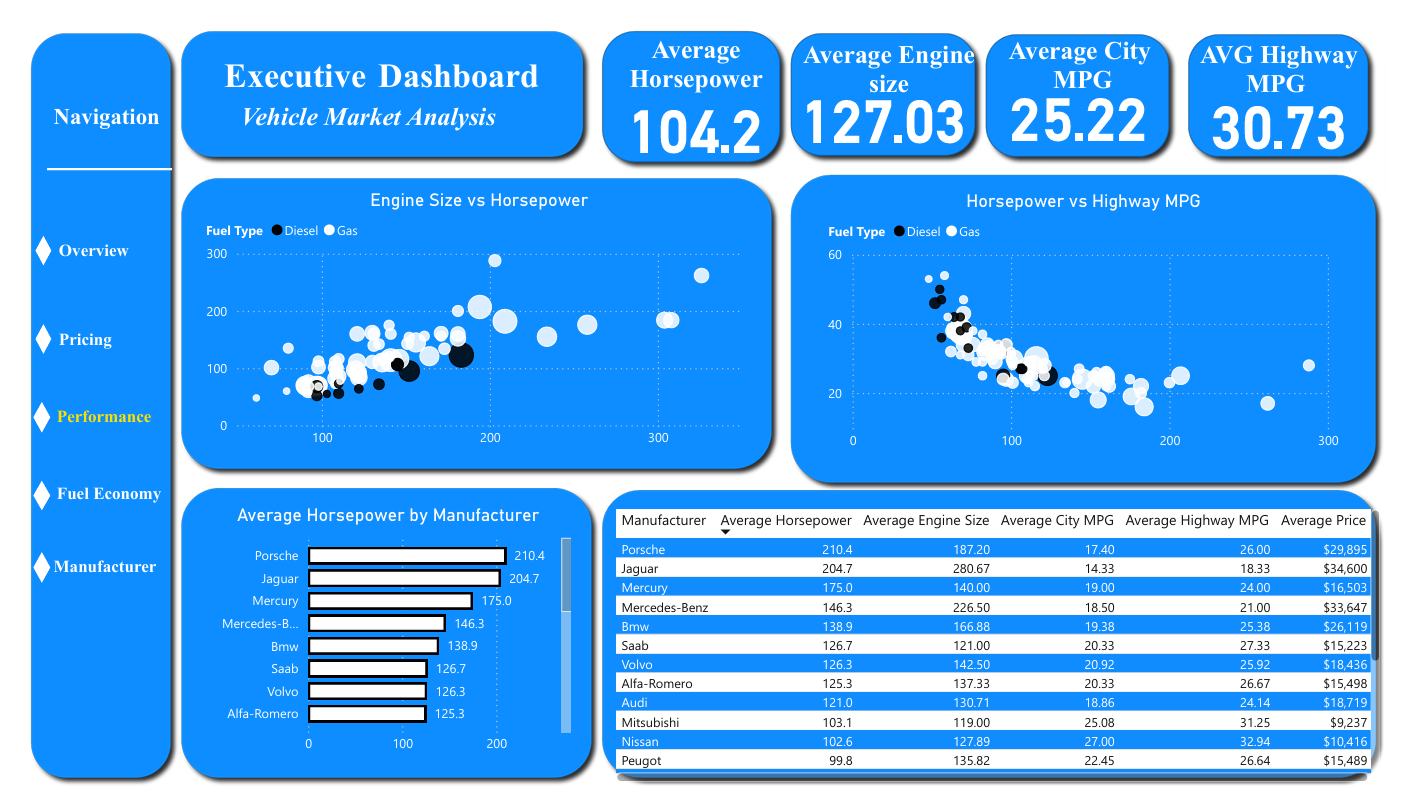

The page's visual inventory and layout, read from the dashboard file:
{"tool":"powerbi","page":{"name":"Performance Analysis","canvas":[1280,720],"ordinal":2},"visuals":[{"type":"shape","box":[543.4,443.5,736.6,275.8],"z":0},{"type":"shape","box":[141.1,429.4,402.8,289.9],"z":1000},{"type":"shape","box":[713.1,134.8,567.3,307.2],"z":2000},{"type":"shape","box":[141.1,0,394.9,136.3],"z":3000},{"type":"shape","box":[1086.1,3.1,186.5,133.2],"z":4000},{"type":"shape","box":[896.5,3.1,189.6,133.2],"z":5000},{"type":"shape","box":[713.1,1.6,191.2,133.2],"z":6000},{"type":"shape","box":[536,0,184.9,141.1],"z":7000},{"type":"card","fields":{"Values":["Measures (2).Average Horsepower"]},"box":[545.4,48.6,172.4,95.6],"z":8000},{"type":"shape","box":[0,1.6,148.9,717.8],"z":9000},{"type":"textbox","box":[545.4,7.8,175.5,69],"z":10000},{"type":"card","fields":{"Values":["Measures (2).Average Engine Size"]},"box":[719.4,42.3,178.7,90.9],"z":11000},{"type":"textbox","box":[724.1,12.5,180.2,67.4],"z":12000},{"type":"textbox","box":[904.3,9.4,183.4,67.4],"z":13000},{"type":"card","fields":{"Values":["Measures (2).Average City MPG"]},"box":[895.8,33.5,191.4,104.1],"z":14000},{"type":"card","fields":{"Values":["Measures (2).Average Highway MPG"]},"box":[1106.5,40.7,147.3,103.4],"z":15000},{"type":"textbox","box":[1083,12.5,194.3,67.4],"z":16000},{"type":"shape","box":[536,431,744.4,288.4],"z":17000},{"type":"textbox","box":[126.9,26.6,421.6,84.6],"z":18000},{"type":"textbox","box":[200.6,70.5,299.3,45.4],"z":19000},{"type":"shape","box":[24.2,76.2,117.1,124.5],"z":20000},{"type":"textbox","box":[24.2,72.5,117.1,48.3],"z":21000},{"type":"shape","box":[12.5,200.6,15.7,28.2],"z":22000},{"type":"shape","box":[12.5,283.7,15.7,28.2],"z":23000},{"type":"textbox","box":[29.8,200.6,108.1,42.3],"z":24000},{"type":"textbox","box":[29.8,285.2,97.2,51.7],"z":25000},{"type":"shape","box":[11,357.3,15.7,28.2],"z":26000},{"type":"textbox","box":[28.2,357.3,133.2,34.5],"z":27000},{"type":"shape","box":[11,431,15.7,28.2],"z":28000},{"type":"textbox","box":[28.2,429.4,148.9,37.6],"z":29000},{"type":"textbox","box":[25,498.3,116.7,28.3],"z":30000},{"type":"shape","box":[11,498.4,15.7,28.2],"z":31000},{"type":"shape","box":[141.1,137.9,572,291.5],"z":32000},{"type":"clusteredBarChart","fields":{"Category":["Cars.Manufacturer"],"Y":["Measures (2).Average Horsepower"]},"box":[167.7,452.9,352.6,242.9],"z":33000},{"type":"scatterChart","title":"Engine Size vs Horsepower","fields":{"X":["Cars.Engine Size"],"Y":["Cars.Horsepower"],"Series":["Cars.Fuel Type"],"Size":["Sum(Cars.Price)"]},"box":[167.7,156.7,523.5,252.3],"z":34000},{"type":"scatterChart","title":"Horsepower vs Highway MPG","fields":{"X":["Cars.Horsepower"],"Series":["Cars.Fuel Type"],"Y":["Cars.Highway MPG"],"Size":["Sum(Cars.Engine Size)"]},"box":[752.3,158.3,489,252.3],"z":35000},{"type":"tableEx","fields":{"Values":["Cars.Manufacturer","Measures (2).Average Horsepower","Measures (2).Average Engine Size","Measures (2).Average City MPG","Measures (2).Average Highway MPG","Measures (2).Average Price"]},"box":[551.7,452.9,728.8,266.4],"z":36000}]}

Visuals, with their boxes in screenshot pixels (x1, y1, x2, y2), scaled from the page's 1280x720 canvas onto the 1402x806 screenshot:
shape: bbox=[595, 496, 1401, 805]
shape: bbox=[155, 481, 596, 805]
shape: bbox=[781, 151, 1401, 495]
shape: bbox=[155, 0, 587, 153]
shape: bbox=[1190, 3, 1394, 153]
shape: bbox=[982, 3, 1190, 153]
shape: bbox=[781, 2, 990, 151]
shape: bbox=[587, 0, 790, 158]
card - Measures (2).Average Horsepower: bbox=[597, 54, 786, 161]
shape: bbox=[0, 2, 163, 805]
textbox: bbox=[597, 9, 790, 86]
card - Measures (2).Average Engine Size: bbox=[788, 47, 984, 149]
textbox: bbox=[793, 14, 990, 89]
textbox: bbox=[990, 11, 1191, 86]
card - Measures (2).Average City MPG: bbox=[981, 38, 1191, 154]
card - Measures (2).Average Highway MPG: bbox=[1212, 46, 1373, 161]
textbox: bbox=[1186, 14, 1399, 89]
shape: bbox=[587, 482, 1401, 805]
textbox: bbox=[139, 30, 601, 124]
textbox: bbox=[220, 79, 548, 130]
shape: bbox=[27, 85, 155, 225]
textbox: bbox=[27, 81, 155, 135]
shape: bbox=[14, 225, 31, 256]
shape: bbox=[14, 318, 31, 349]
textbox: bbox=[33, 225, 151, 272]
textbox: bbox=[33, 319, 139, 377]
shape: bbox=[12, 400, 29, 432]
textbox: bbox=[31, 400, 177, 439]
shape: bbox=[12, 482, 29, 514]
textbox: bbox=[31, 481, 194, 523]
textbox: bbox=[27, 558, 155, 589]
shape: bbox=[12, 558, 29, 589]
shape: bbox=[155, 154, 781, 481]
clusteredBarChart - Cars.Manufacturer x Measures (2).Average Horsepower: bbox=[184, 507, 570, 779]
"Engine Size vs Horsepower" scatterChart: bbox=[184, 175, 757, 458]
"Horsepower vs Highway MPG" scatterChart: bbox=[824, 177, 1360, 460]
tableEx - Cars.Manufacturer x Measures (2).Average Horsepower: bbox=[604, 507, 1401, 805]
